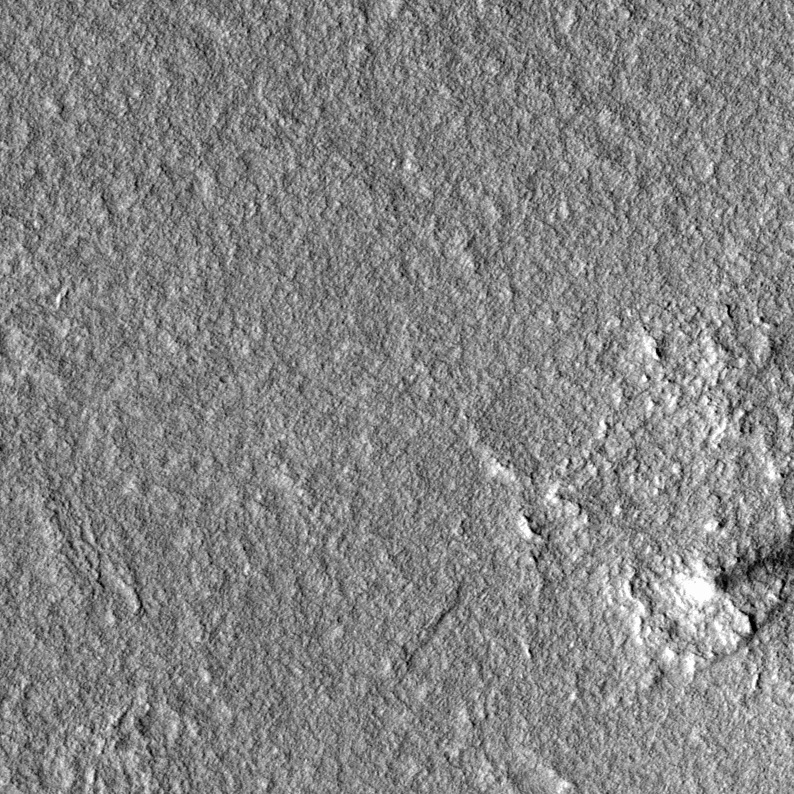dust_devil: (674, 533, 794, 605)
